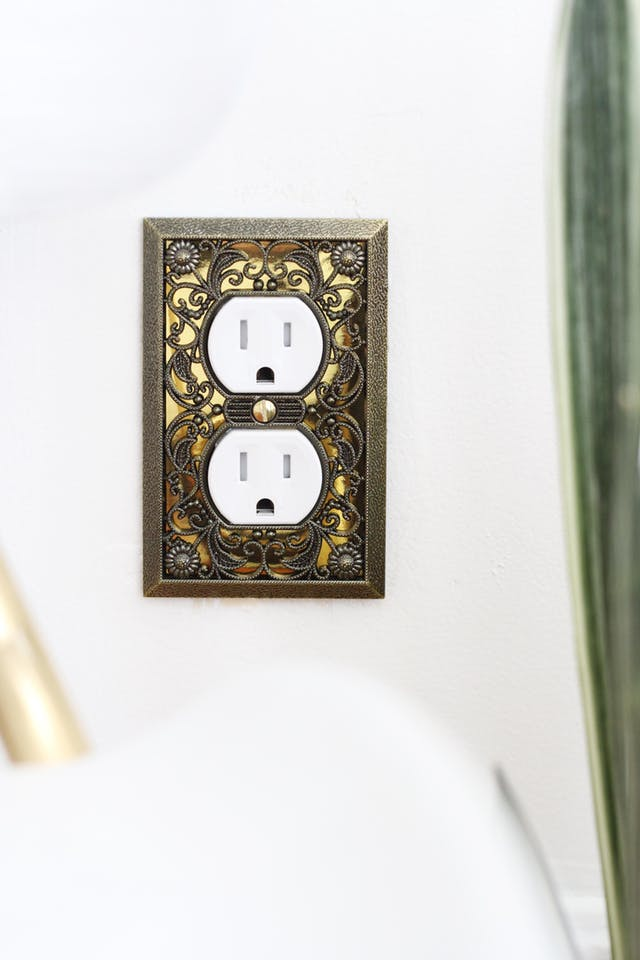outlet: (231, 310, 300, 386), (231, 444, 299, 518)
